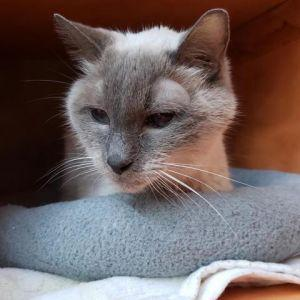siamese: (50, 1, 245, 215)
